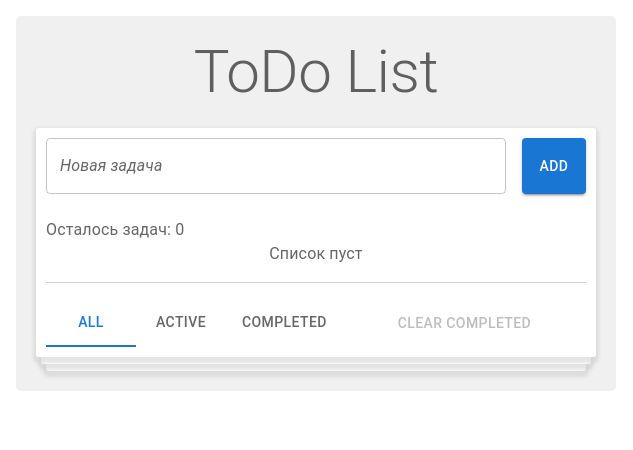
Test: ToDo App › отмечает задачу как выполненную и отображает в Completed
Type "Тестовая задача" into the field labelled "Новая задача" at (276, 166), box [46, 138, 506, 194]
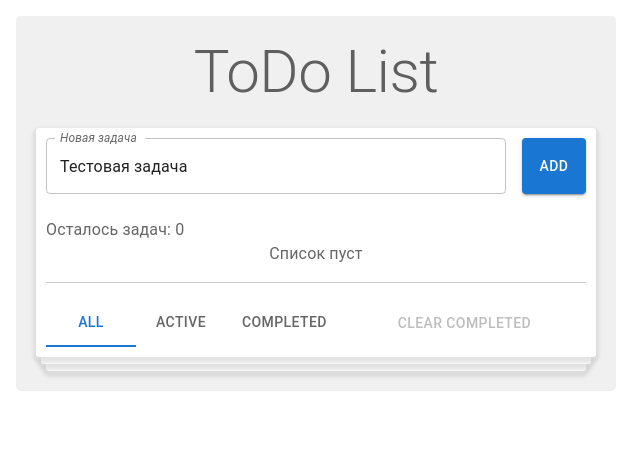
Click the button "Add" at (554, 166), box [522, 138, 586, 194]
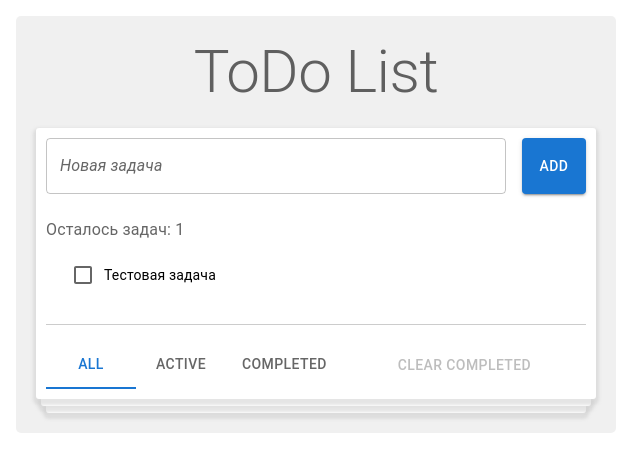
Click the checkbox at (83, 275), box [71, 263, 95, 287]
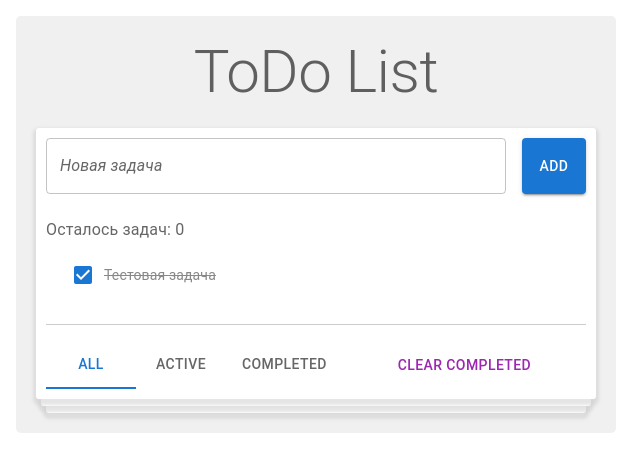
Result: the text "Осталось задач: 0" is shown at [46, 220, 184, 239]
